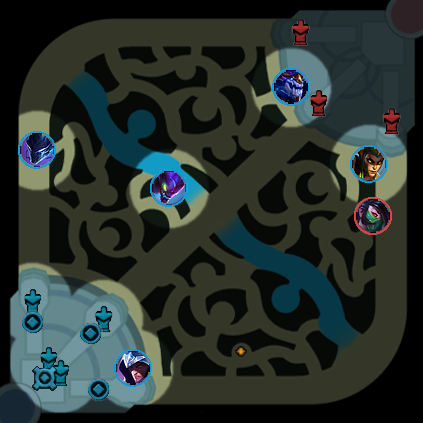Akali: (354, 197, 392, 235)
AurelionSol: (272, 68, 310, 106)
Cassiopeia: (350, 145, 388, 183)
Khazix: (150, 169, 188, 207)
Nocturne: (18, 131, 56, 169)
Talon: (114, 349, 152, 387)
